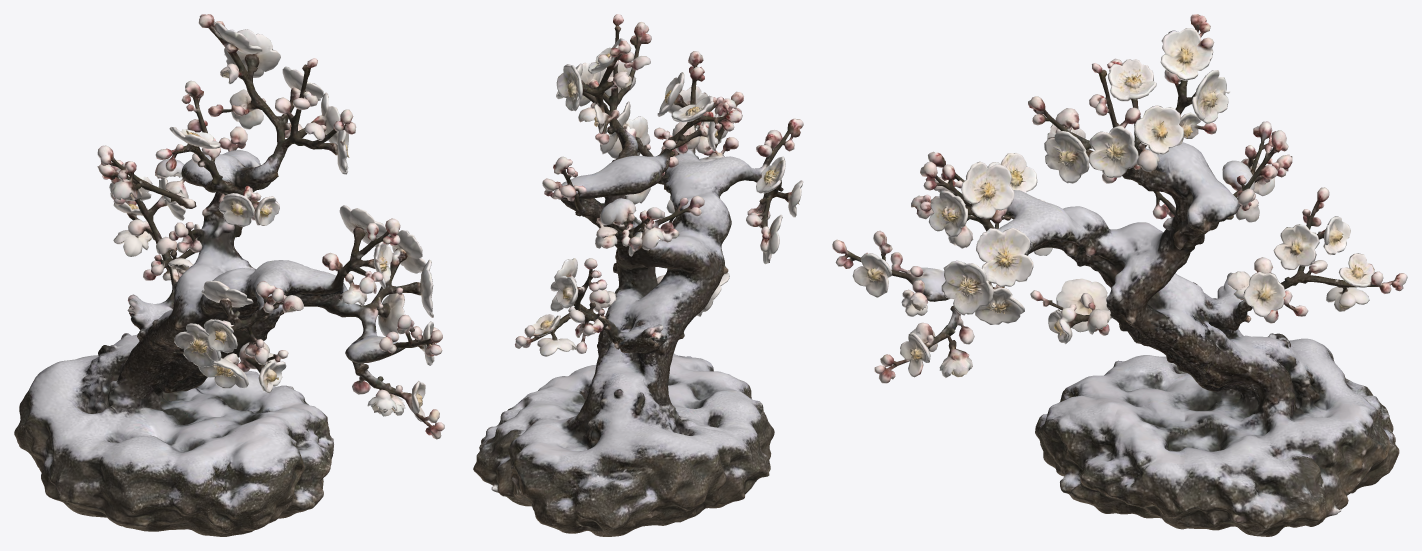
3 views of the same model, side by side, from view 1: azimuth 30°, elevation 25°; view 2: azimuth 150°, elevation 25°; view 3: azimuth 270°, elevation 25° (orthographic). The views are drawn at different scales.
Visible parts, largest first — view 1: tripo_node_a67f6fe8-42c2-4e00-8d1c-b4f2f86a74d1; view 2: tripo_node_a67f6fe8-42c2-4e00-8d1c-b4f2f86a74d1; view 3: tripo_node_a67f6fe8-42c2-4e00-8d1c-b4f2f86a74d1.
Part boxes in pixels (x1,y1,x2,y2): tripo_node_a67f6fe8-42c2-4e00-8d1c-b4f2f86a74d1: (14,14,444,536); tripo_node_a67f6fe8-42c2-4e00-8d1c-b4f2f86a74d1: (473,14,803,536); tripo_node_a67f6fe8-42c2-4e00-8d1c-b4f2f86a74d1: (832,14,1407,536).
Bounding box in the file's own units: 0.5487 × 0.899 × 0.9841.
Materials: 1 (1 with a texture image).
